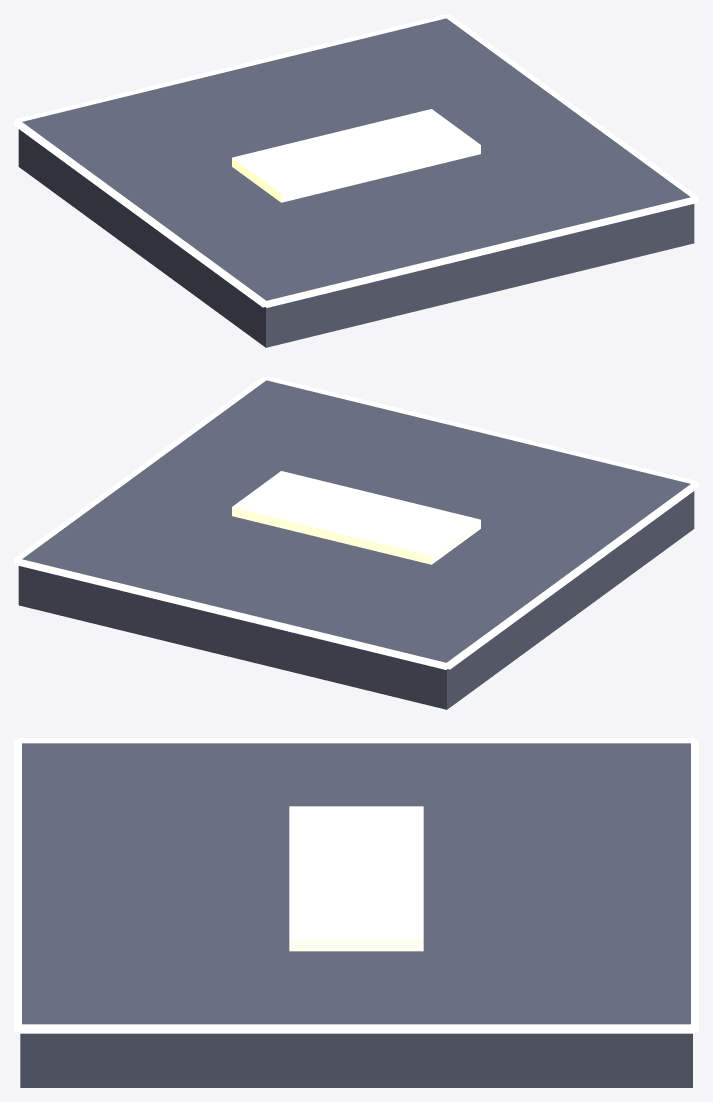
The model's file is tower_glass.glb.
3 views of the same model, one above another, from view 1: azimuth 30°, elevation 25°; view 2: azimuth 150°, elevation 25°; view 3: azimuth 270°, elevation 25° (orthographic). The views are drawn at different scales.
Visible parts, largest first — view 1: PodiumBase, PenthouseWindows, PodiumGlowS, PodiumGlowW, PodiumGlowN, PodiumGlowE; view 2: PodiumBase, PenthouseWindows, PodiumGlowN, PodiumGlowW, PodiumGlowS, PodiumGlowE; view 3: PodiumBase, PenthouseWindows, PodiumGlowE, PodiumGlowW, PodiumGlowN, PodiumGlowS, Beacon.
Part boxes in pixels (<box>): PodiumBase: <box>18,18,694,347</box>; PenthouseWindows: <box>232,109,480,202</box>; PodiumGlowS: <box>264,196,697,307</box>; PodiumGlowW: <box>14,120,267,307</box>; PodiumGlowN: <box>15,14,447,121</box>; PodiumGlowE: <box>445,14,698,201</box>; PodiumBase: <box>18,380,694,709</box>; PenthouseWindows: <box>232,471,480,564</box>; PodiumGlowN: <box>15,558,448,669</box>; PodiumGlowW: <box>447,482,698,669</box>; PodiumGlowS: <box>264,376,697,483</box>; PodiumGlowE: <box>14,376,267,563</box>; PodiumBase: <box>20,743,692,1087</box>; PenthouseWindows: <box>289,806,423,951</box>; PodiumGlowE: <box>18,1024,694,1033</box>; PodiumGlowW: <box>18,738,694,743</box>; PodiumGlowN: <box>691,739,698,1031</box>; PodiumGlowS: <box>14,739,21,1031</box>; Beacon: <box>341,840,371,872</box>.
Bounding box in the file's own units: 30.55 × 5.2 × 30.55.
